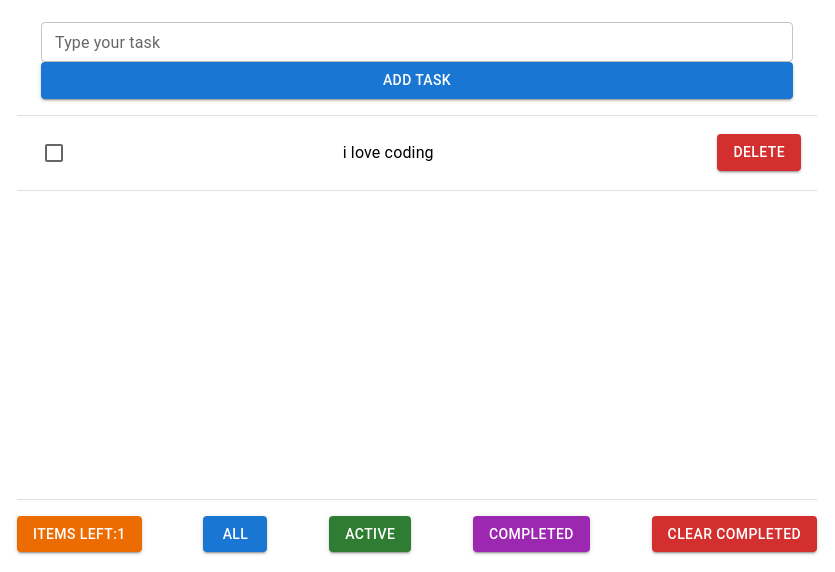
it: App › add one task and change its status
Step 1. Type "i love coding" into the field with test id "task-input" → (417, 42), box [41,22,793,62]
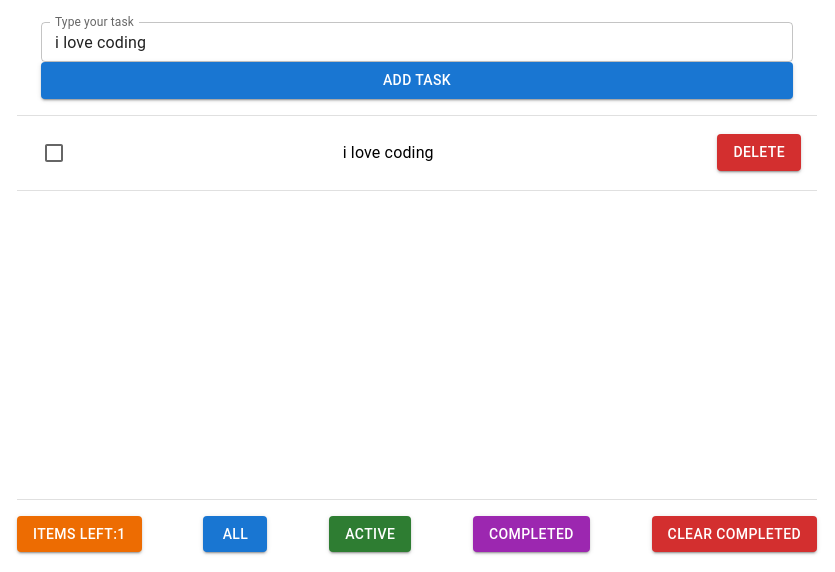
Step 2. Submit the form from the button with test id "task-button", box [41,62,793,98]
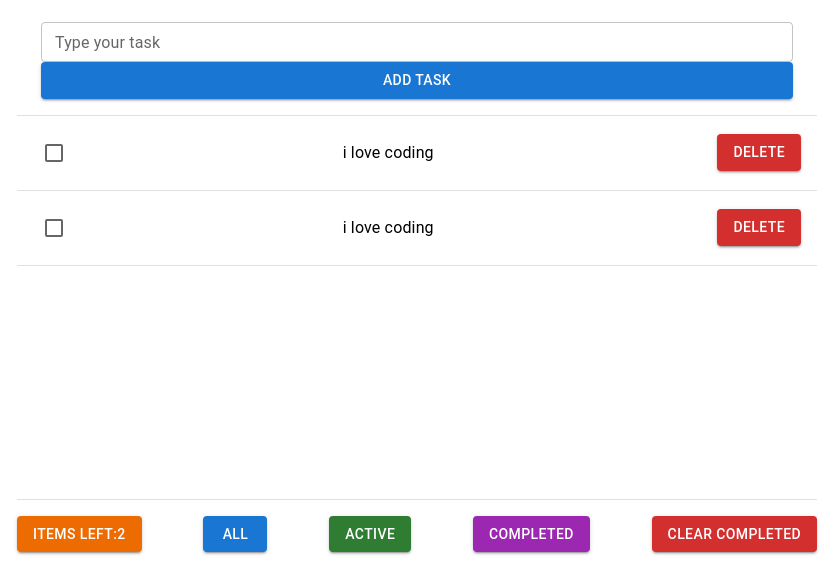
Expected: the element with test id "task-item-0-ACTIVE" is shown, [42,134,801,171]
Step 3. Click the element with test id "task-checkbox-0" → (54, 152), box [42,140,66,164]
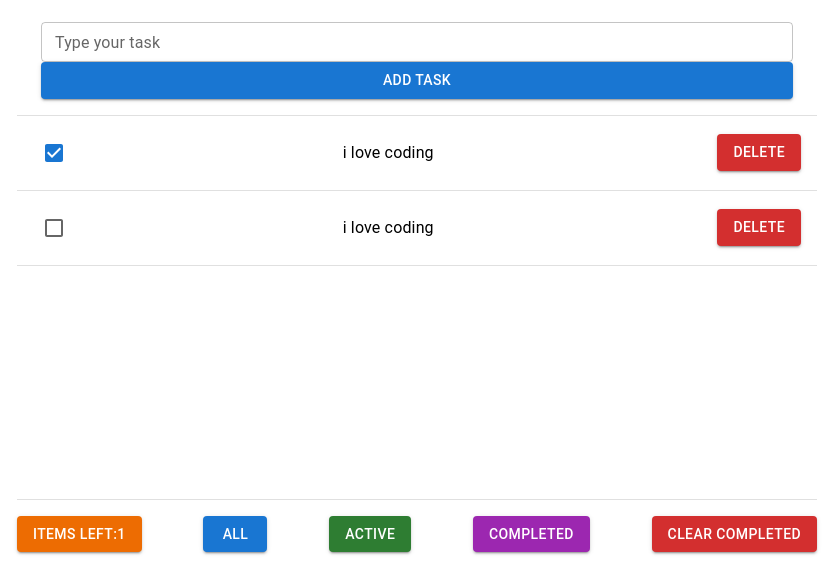
Result: the element with test id "task-item-0-COMPLETED" is shown at [42,134,801,171]
